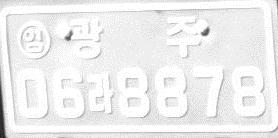0: (14, 69, 48, 119)
6: (50, 69, 84, 119)
7: (191, 65, 224, 117)
8: (115, 66, 150, 118), (153, 66, 188, 118), (231, 65, 265, 117)
광주_D: (68, 15, 200, 60)
라: (86, 72, 114, 114)
영: (16, 20, 50, 59)
